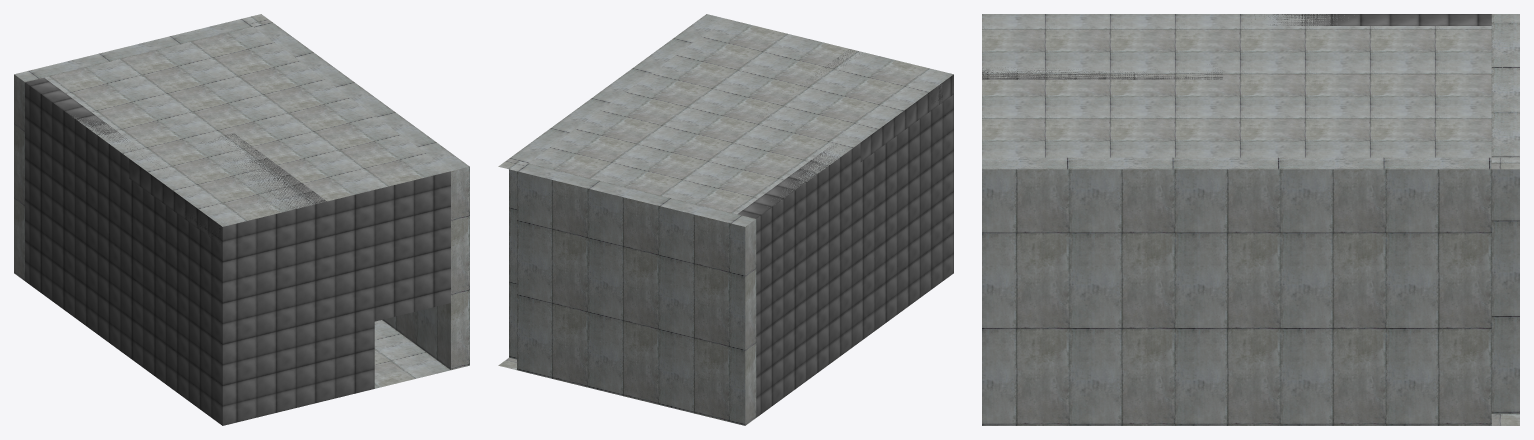
Rendered from Level_15.fbx.
3 renders of one model, left to right at view 1: azimuth 30°, elevation 25°; view 2: azimuth 150°, elevation 25°; view 3: azimuth 270°, elevation 25°, orthographic. The views are drawn at different scales.
Parts seen in each view (by area): view 1: NoTeleport.004, Wall.005; view 2: Wall.005, NoTeleport.004; view 3: Wall.005, NoTeleport.004.
Part boxes in pixels (x1,y1,x2,y2): NoTeleport.004: (25, 78, 450, 425); Wall.005: (14, 14, 469, 388); Wall.005: (498, 14, 953, 425); NoTeleport.004: (737, 49, 953, 417); Wall.005: (982, 14, 1519, 425); NoTeleport.004: (982, 14, 1491, 79).
Size of the model in its own units: 13 by 19 by 10.
